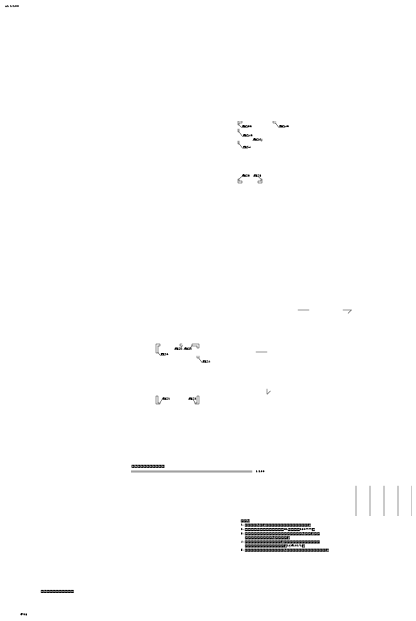wall: (160, 597, 174, 604), (214, 612, 228, 618), (64, 261, 76, 268), (78, 261, 90, 268), (160, 579, 173, 585), (100, 241, 113, 247), (40, 252, 51, 257), (160, 611, 173, 615), (43, 178, 53, 182), (85, 178, 94, 182), (180, 591, 192, 594), (160, 531, 171, 534), (181, 531, 192, 534), (164, 534, 169, 538), (181, 534, 186, 538), (165, 579, 170, 583), (64, 261, 69, 265), (78, 261, 83, 265), (106, 241, 110, 245), (46, 183, 51, 186), (85, 183, 90, 186), (180, 591, 185, 594), (164, 612, 169, 615), (219, 612, 224, 615), (165, 598, 170, 601), (44, 253, 48, 256)
